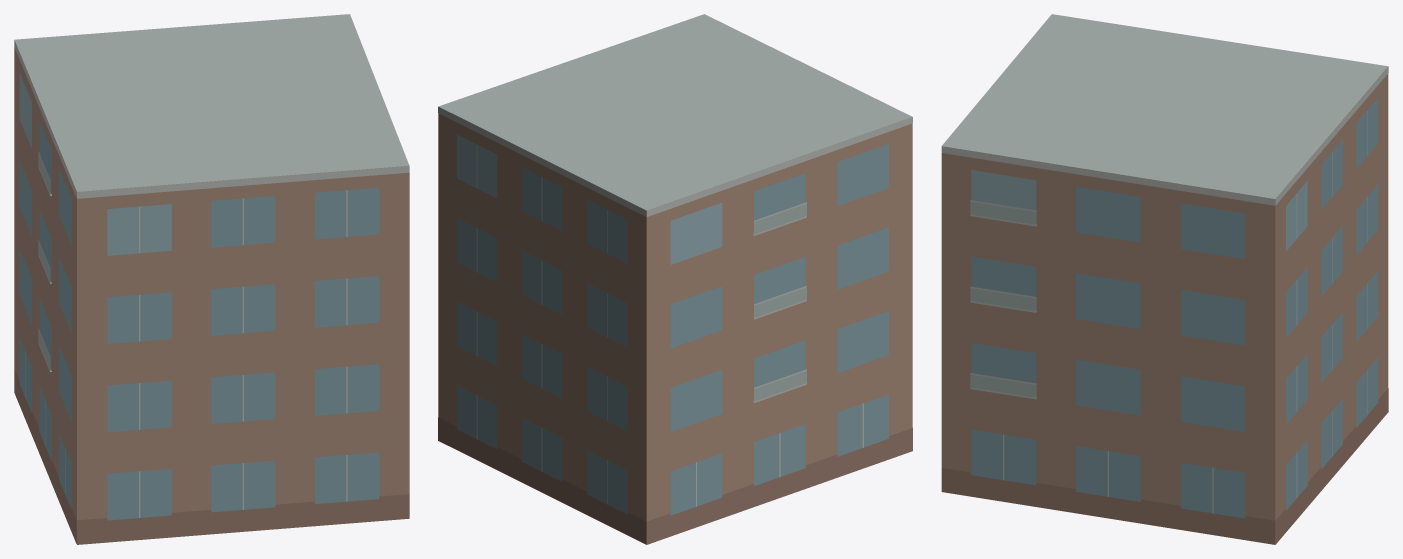
File: survey-upis-32922073.glb
The picture shows the model from 3 angles, left to right: view 1: azimuth 30°, elevation 25°; view 2: azimuth 150°, elevation 25°; view 3: azimuth 270°, elevation 25°; orthographic projection. The views are drawn at different scales.
Visible parts, largest first — view 1: survey-upis-32922073.tmp; view 2: survey-upis-32922073.tmp; view 3: survey-upis-32922073.tmp.
Part boxes in pixels (left/top/right/bottom): survey-upis-32922073.tmp: left=14, top=14, right=409, bottom=544; survey-upis-32922073.tmp: left=438, top=14, right=912, bottom=544; survey-upis-32922073.tmp: left=941, top=14, right=1388, bottom=544.
Bounding box in the file's own units: 14.36 × 12.5 × 14.65.
